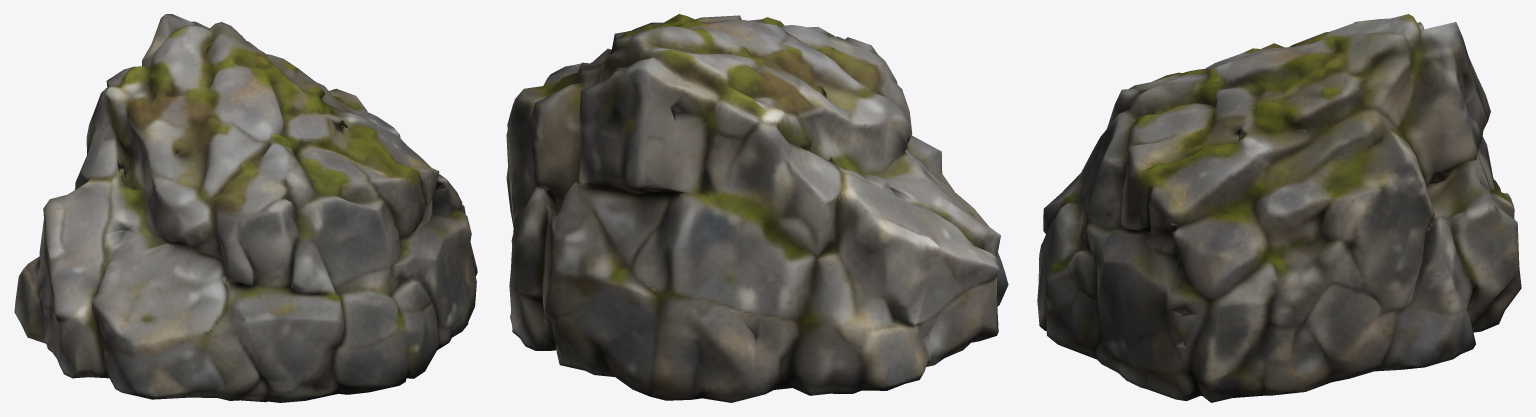
The model's file is rock_0.glb.
The picture shows the model from 3 angles, left to right: view 1: azimuth 30°, elevation 25°; view 2: azimuth 150°, elevation 25°; view 3: azimuth 270°, elevation 25°; orthographic projection. The views are drawn at different scales.
Parts seen in each view (by area): view 1: MV_rock_0; view 2: MV_rock_0; view 3: MV_rock_0.
Part boxes in pixels (left/top/right/bottom): MV_rock_0: left=14, top=14, right=477, bottom=402; MV_rock_0: left=506, top=14, right=1008, bottom=402; MV_rock_0: left=1037, top=14, right=1521, bottom=402.
Size of the model in its own units: 2.52 by 1.5 by 2.34.
1 material, 1 textured.
